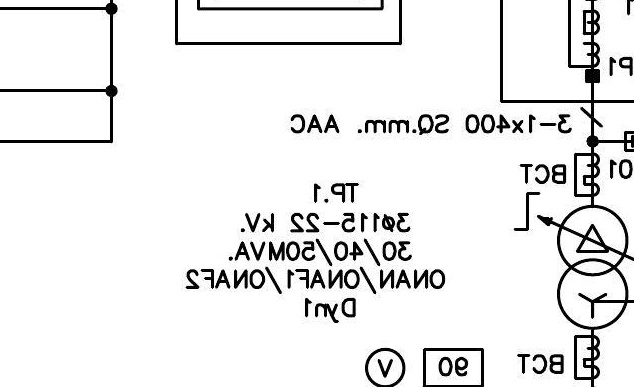11522_tx_dyn1: (556, 204, 629, 331)
